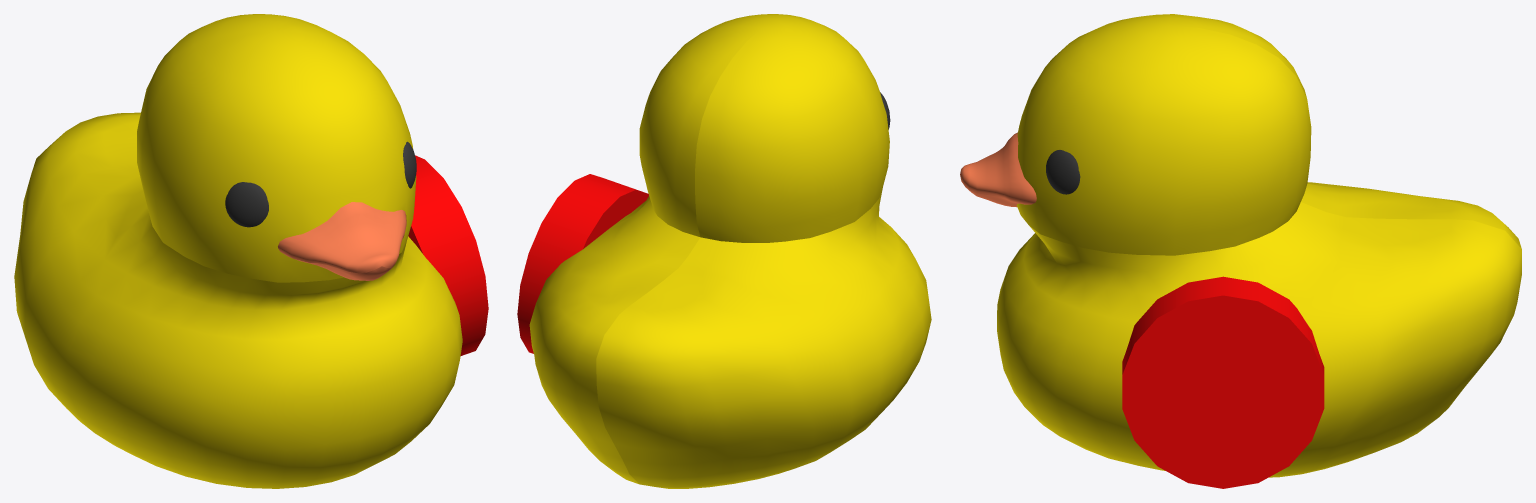
The model's file is Pato_V2.fbx.
3 views of the same model, side by side, from view 1: azimuth 30°, elevation 25°; view 2: azimuth 150°, elevation 25°; view 3: azimuth 270°, elevation 25° (orthographic). The views are drawn at different scales.
Visible parts, largest first — view 1: Patito, Cylinder001; view 2: Patito, Cylinder001; view 3: Patito, Cylinder001.
Part boxes in pixels (left/top/right/bottom): Patito: left=14, top=14, right=462, bottom=488; Cylinder001: left=408, top=155, right=488, bottom=355; Patito: left=529, top=14, right=931, bottom=488; Cylinder001: left=517, top=174, right=648, bottom=353; Patito: left=960, top=14, right=1521, bottom=477; Cylinder001: left=1122, top=276, right=1324, bottom=488.
Size of the model in its own units: 61.52 by 69.09 by 82.34.
